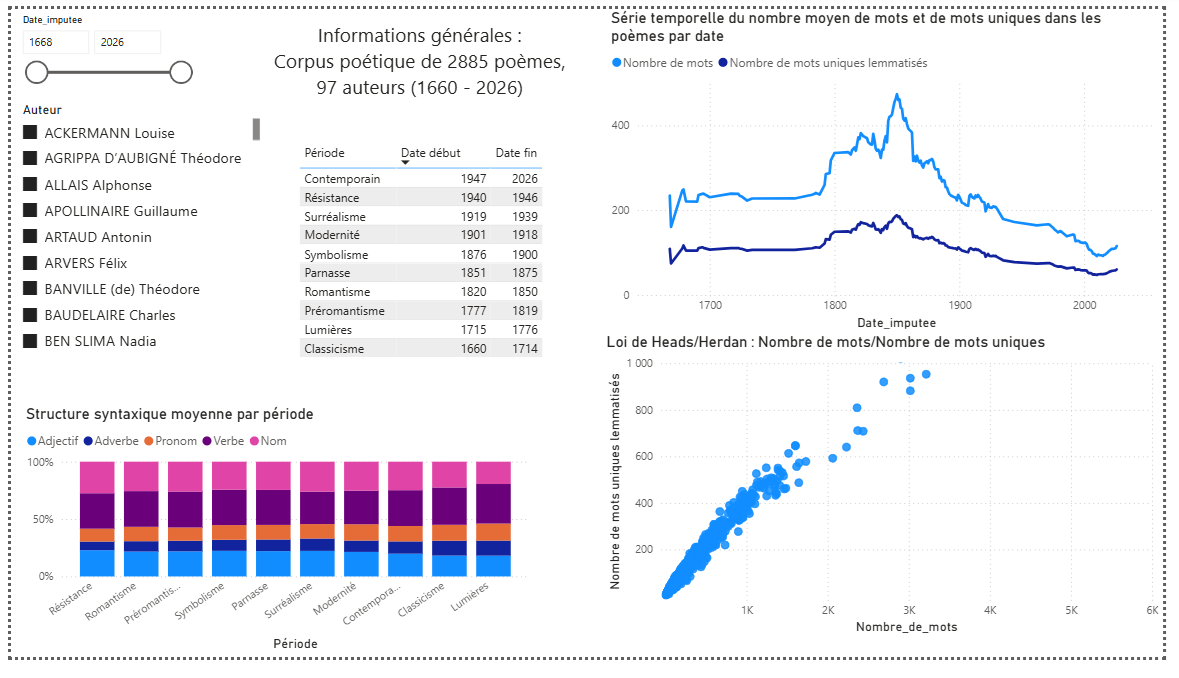

The dashboard page shown, as its layout file describes it:
{"tool":"powerbi","page":{"name":"Vue générale","canvas":[1280,720],"ordinal":0},"visuals":[{"type":"lineChart","title":"Série temporelle du nombre moyen de mots et de mots uniques dans les poèmes par date","fields":{"Category":["df final.Date_imputee"],"Y":["Avg(df final.Nombre_de_mots)","Avg(df final.Nb_Token_lemmas)","select","select1"]},"box":[661.7,0,617.8,360.4],"z":0},{"type":"scatterChart","title":"Loi de Heads/Herdan : Nombre de mots/Nombre de mots uniques","fields":{"X":["df final.Nombre_de_mots"],"Y":["df final.Nb_Token_lemmas"]},"box":[657.1,360,622.9,338.6],"z":1000},{"type":"slicer","fields":{"Values":["df final.Date_imputee"]},"box":[0,0,210,98],"z":2000},{"type":"hundredPercentStackedColumnChart","title":"Structure syntaxique moyenne par période","fields":{"Category":["Périodes.Période"],"Y":["Avg(df pos final.ADJ_ratio)","Avg(df pos final.ADV_ratio)","Avg(df pos final.PRON_ratio)","Avg(df pos final.VERB_ratio)","Avg(df pos final.NOUN_ratio)"]},"box":[11.4,440,568.6,277.1],"z":3000},{"type":"textbox","box":[281.7,8.3,345,135],"z":4000},{"type":"slicer","fields":{"Values":["df final.Auteur"]},"box":[0,98.6,281.4,288.6],"z":5000},{"type":"tableEx","fields":{"Values":["Périodes.Période","Périodes.Date_imputee","Périodes.Date_imputee1"]},"box":[315.7,143.2,311.3,252.8],"z":6000}]}

Visuals, with their boxes in screenshot pixels (x1, y1, x2, y2), scaled from the page's 1280x720 canvas onto the 1179x678 screenshot:
"Série temporelle du nombre moyen de mots et de mots uniques dans les poèmes par date" lineChart: (609,0,1178,339)
"Loi de Heads/Herdan : Nombre de mots/Nombre de mots uniques" scatterChart: (605,339,1178,658)
slicer - df final.Date_imputee: (0,0,193,92)
"Structure syntaxique moyenne par période" hundredPercentStackedColumnChart: (11,414,534,675)
textbox: (259,8,577,135)
slicer - df final.Auteur: (0,93,259,365)
tableEx - Périodes.Période x Périodes.Date_imputee: (291,135,578,373)
